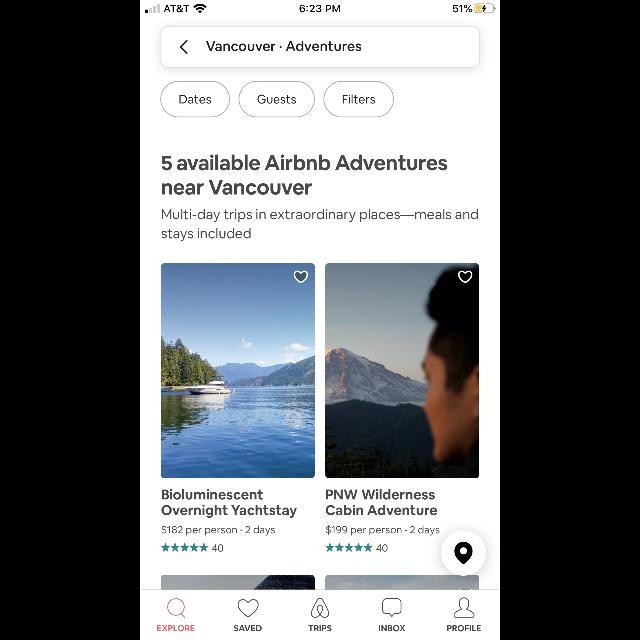icon: (440, 530, 486, 576), (162, 542, 208, 552), (382, 598, 402, 618), (454, 598, 474, 618), (326, 544, 372, 552), (168, 598, 186, 618), (238, 599, 258, 617), (294, 270, 308, 284), (458, 270, 472, 284), (180, 40, 188, 54)
image: (161, 264, 315, 478), (325, 264, 479, 478), (325, 575, 479, 589), (162, 575, 314, 589), (311, 598, 329, 618)
input: (160, 26, 480, 68)
text: (161, 154, 447, 196), (162, 208, 478, 242), (162, 488, 296, 518), (326, 488, 436, 516), (206, 40, 362, 51), (162, 524, 276, 536), (326, 524, 439, 536), (447, 624, 481, 632), (158, 625, 195, 631), (234, 625, 262, 631), (379, 625, 405, 631), (308, 625, 332, 631), (212, 544, 224, 552), (377, 544, 388, 552)
textbutton: (239, 80, 315, 118), (160, 80, 230, 118), (324, 80, 394, 118)
uppertaskbar: (140, 0, 500, 14)
